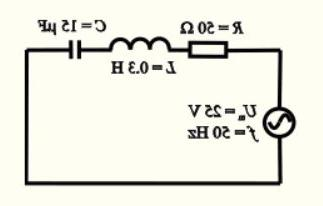inductor: (102, 33, 182, 57)
